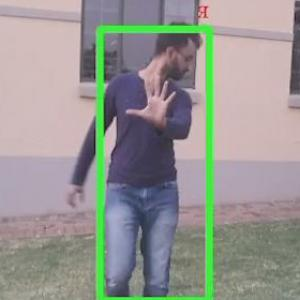follow_hand: (124, 67, 183, 133)
